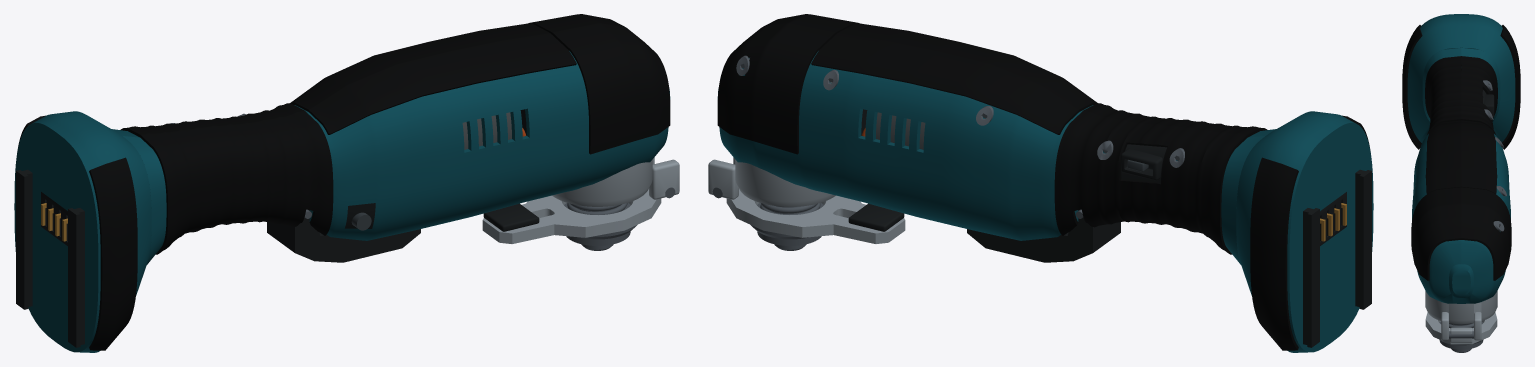
The picture shows the model from 3 angles, left to right: view 1: azimuth 30°, elevation 25°; view 2: azimuth 150°, elevation 25°; view 3: azimuth 270°, elevation 25°; orthographic projection. The views are drawn at different scales.
Parts seen in each view (by area): view 1: part_085_Left_hollow_body_shell, part_083_Left_palm_grip, part_096_Hollow_battery_shoe, part_081_Left_upper_protective_strip, part_084_Left_nose_bumper, part_082_Left_shoe_grip, part_117_Accessory_release_lever, part_030_Right_upper_protective_strip, part_095_Hollow_drive_casting, part_002_Variable_speed_trigger, part_035_Right_battery_guide_rail, part_086_Left_battery_guide_rail (+5 smaller); view 2: part_034_Right_hollow_body_shell, part_032_Right_palm_grip, part_096_Hollow_battery_shoe, part_030_Right_upper_protective_strip, part_033_Right_nose_bumper, part_031_Right_shoe_grip, part_117_Accessory_release_lever, part_081_Left_upper_protective_strip, part_095_Hollow_drive_casting, part_002_Variable_speed_trigger, part_086_Left_battery_guide_rail, part_035_Right_battery_guide_rail (+7 smaller); view 3: part_096_Hollow_battery_shoe, part_084_Left_nose_bumper, part_033_Right_nose_bumper, part_085_Left_hollow_body_shell, part_034_Right_hollow_body_shell, part_030_Right_upper_protective_strip, part_081_Left_upper_protective_strip, part_083_Left_palm_grip, part_032_Right_palm_grip, part_095_Hollow_drive_casting, part_117_Accessory_release_lever, part_082_Left_shoe_grip (+6 smaller).
Part boxes in pixels (x1=…): part_085_Left_hollow_body_shell: x1=123, y1=51, x2=668, y2=264; part_083_Left_palm_grip: x1=140, y1=110, x2=333, y2=254; part_096_Hollow_battery_shoe: x1=14, y1=111, x2=151, y2=352; part_081_Left_upper_protective_strip: x1=308, y1=33, x2=576, y2=134; part_084_Left_nose_bumper: x1=552, y1=23, x2=670, y2=154; part_082_Left_shoe_grip: x1=89, y1=157, x2=137, y2=350; part_117_Accessory_release_lever: x1=482, y1=189, x2=661, y2=243; part_030_Right_upper_protective_strip: x1=290, y1=23, x2=549, y2=111; part_095_Hollow_drive_casting: x1=552, y1=157, x2=679, y2=206; part_002_Variable_speed_trigger: x1=267, y1=210, x2=420, y2=262; part_035_Right_battery_guide_rail: x1=16, y1=169, x2=32, y2=309; part_086_Left_battery_guide_rail: x1=68, y1=208, x2=84, y2=347; part_034_Right_hollow_body_shell: x1=719, y1=51, x2=1264, y2=264; part_032_Right_palm_grip: x1=1054, y1=110, x2=1247, y2=254; part_096_Hollow_battery_shoe: x1=1236, y1=111, x2=1373, y2=352; part_030_Right_upper_protective_strip: x1=811, y1=33, x2=1079, y2=134; part_033_Right_nose_bumper: x1=717, y1=23, x2=835, y2=154; part_031_Right_shoe_grip: x1=1250, y1=157, x2=1298, y2=350; part_117_Accessory_release_lever: x1=726, y1=189, x2=905, y2=243; part_081_Left_upper_protective_strip: x1=838, y1=23, x2=1097, y2=111; part_095_Hollow_drive_casting: x1=708, y1=82, x2=835, y2=206; part_002_Variable_speed_trigger: x1=967, y1=210, x2=1120, y2=262; part_086_Left_battery_guide_rail: x1=1355, y1=169, x2=1371, y2=309; part_035_Right_battery_guide_rail: x1=1303, y1=208, x2=1319, y2=347; part_096_Hollow_battery_shoe: x1=1407, y1=14, x2=1515, y2=142; part_084_Left_nose_bumper: x1=1411, y1=187, x2=1461, y2=280; part_033_Right_nose_bumper: x1=1461, y1=187, x2=1511, y2=280; part_085_Left_hollow_body_shell: x1=1412, y1=48, x2=1461, y2=303; part_034_Right_hollow_body_shell: x1=1461, y1=48, x2=1510, y2=303; part_030_Right_upper_protective_strip: x1=1461, y1=120, x2=1497, y2=193; part_081_Left_upper_protective_strip: x1=1425, y1=120, x2=1461, y2=193; part_083_Left_palm_grip: x1=1425, y1=56, x2=1461, y2=134; part_032_Right_palm_grip: x1=1461, y1=56, x2=1497, y2=134; part_095_Hollow_drive_casting: x1=1425, y1=291, x2=1497, y2=340; part_117_Accessory_release_lever: x1=1425, y1=312, x2=1497, y2=344; part_082_Left_shoe_grip: x1=1402, y1=25, x2=1422, y2=149.
Bounding box in the file's own units: 0.2658 × 0.1021 × 0.0669.
